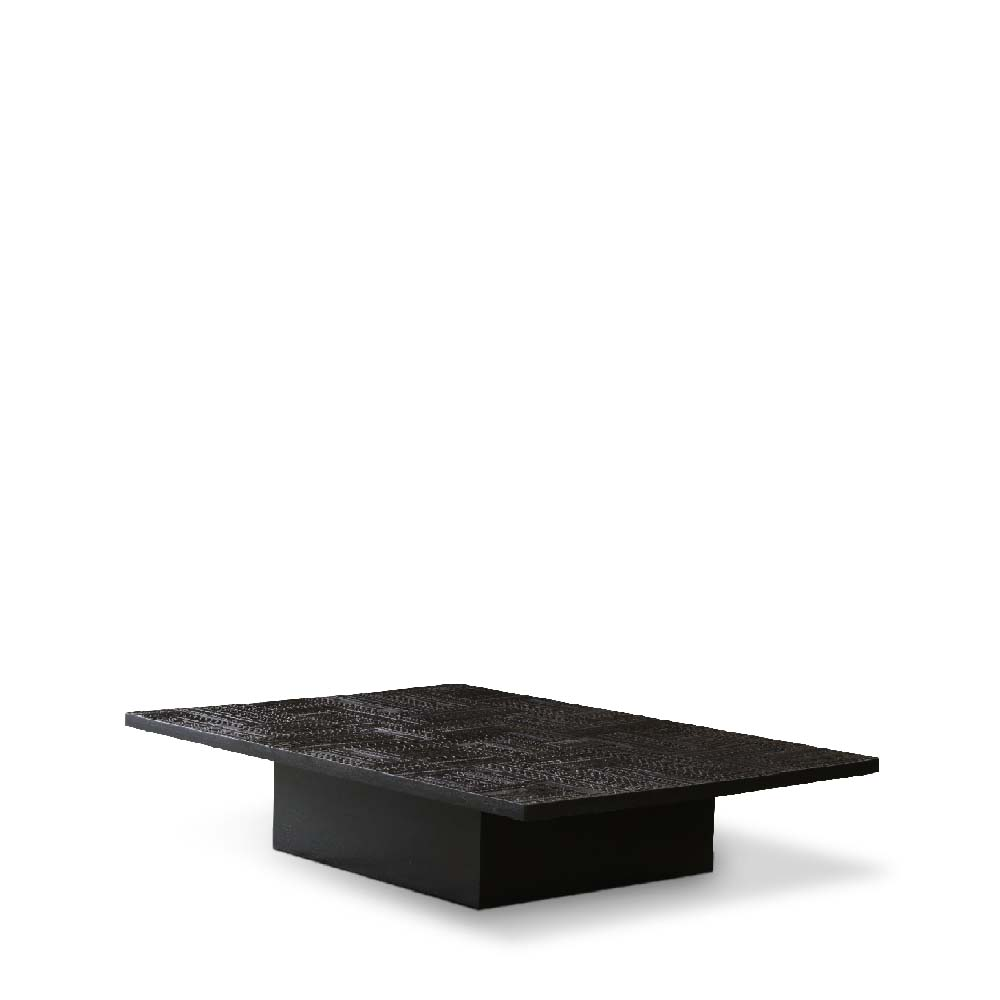meja: (100, 661, 903, 926)
